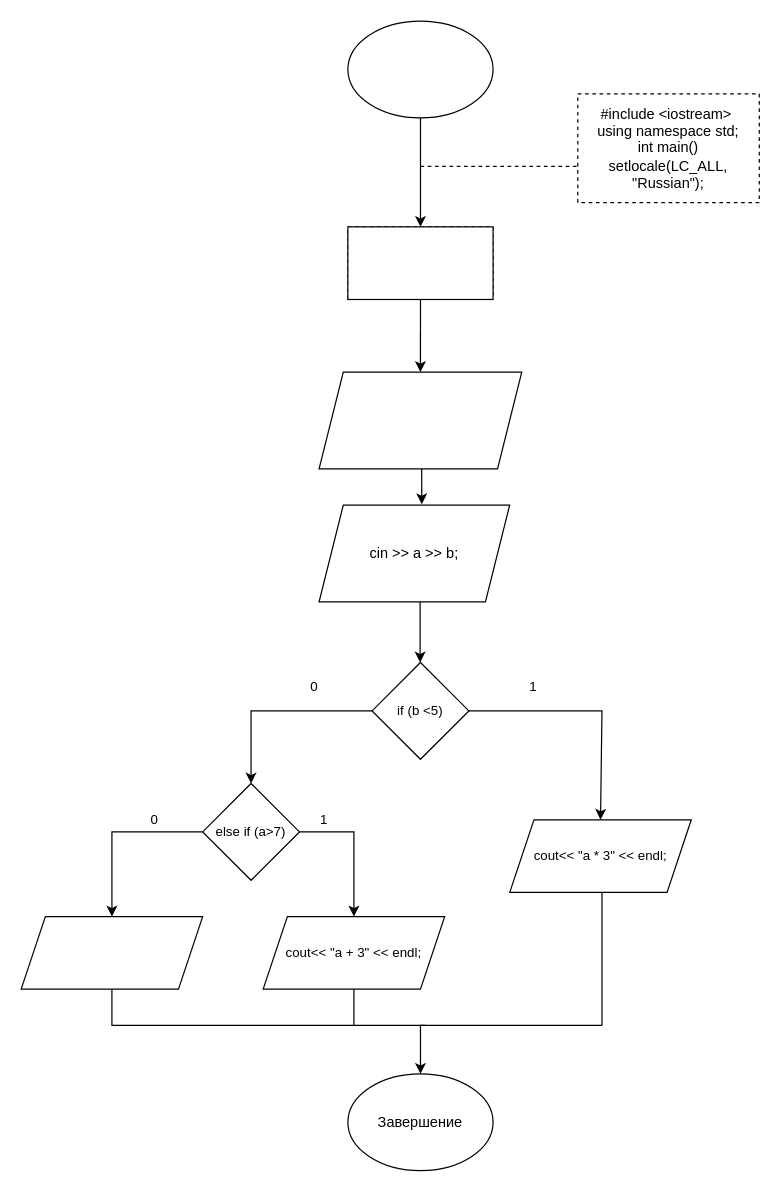
This 780x1192 diagram has some shape labels left out. Each missing label, with the centre of its shape:
cout << "Введите числа, которые хотите поделить:" << endl;: the point at 420,420
cout<< "a / 10" << endl;: the point at 111,952
float a, b;: the point at 420,262
Начало: the point at 420,69
